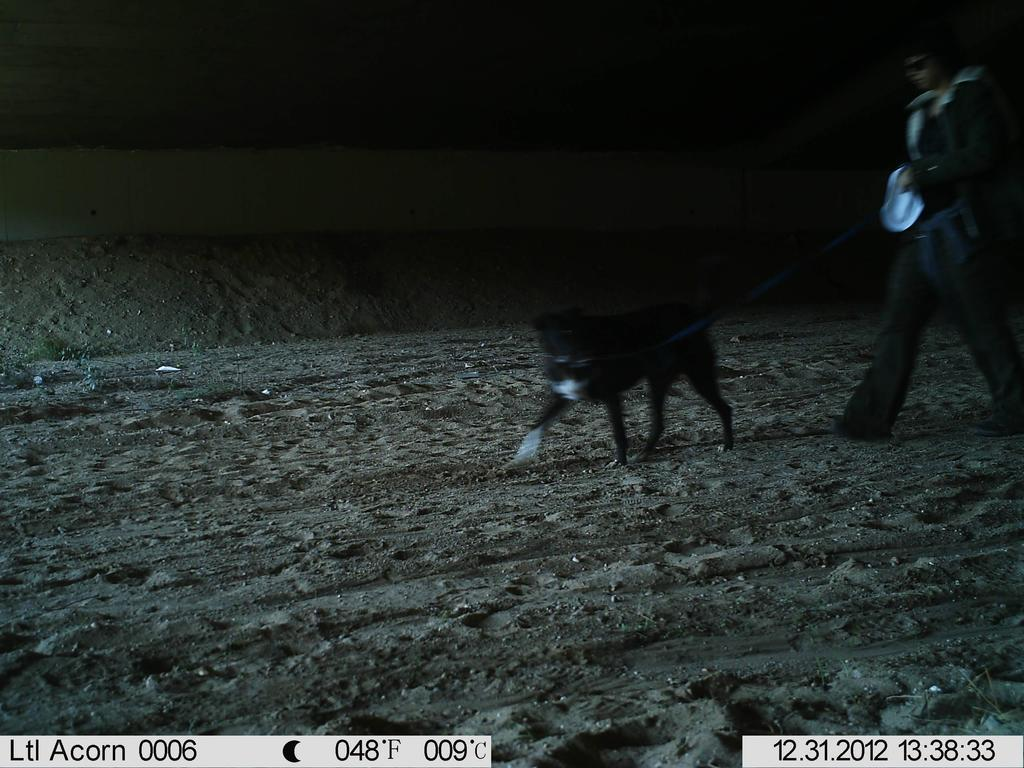dog: (520, 287, 743, 481)
